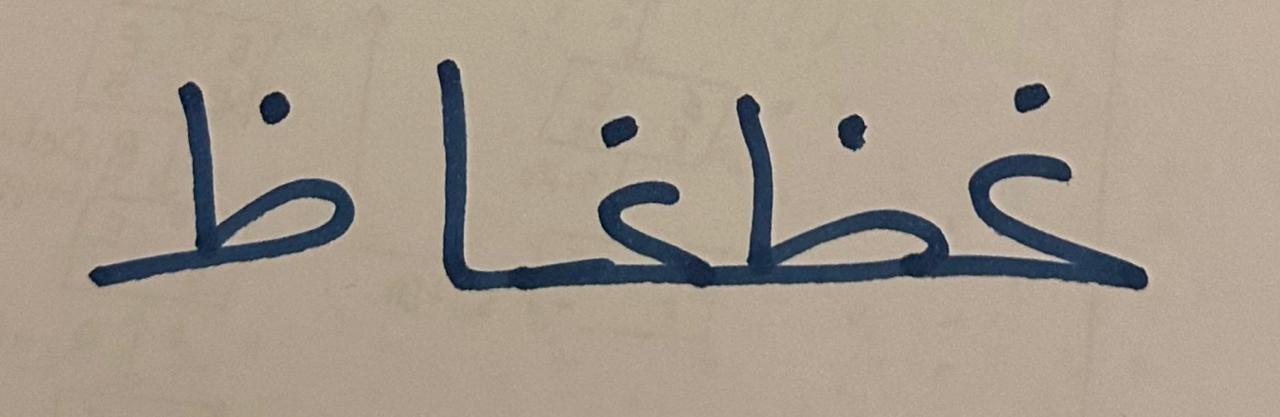alef: (369, 1, 507, 343)
ghain: (955, 36, 1204, 343), (511, 76, 714, 351)
zain: (29, 7, 365, 346), (717, 49, 952, 342)
